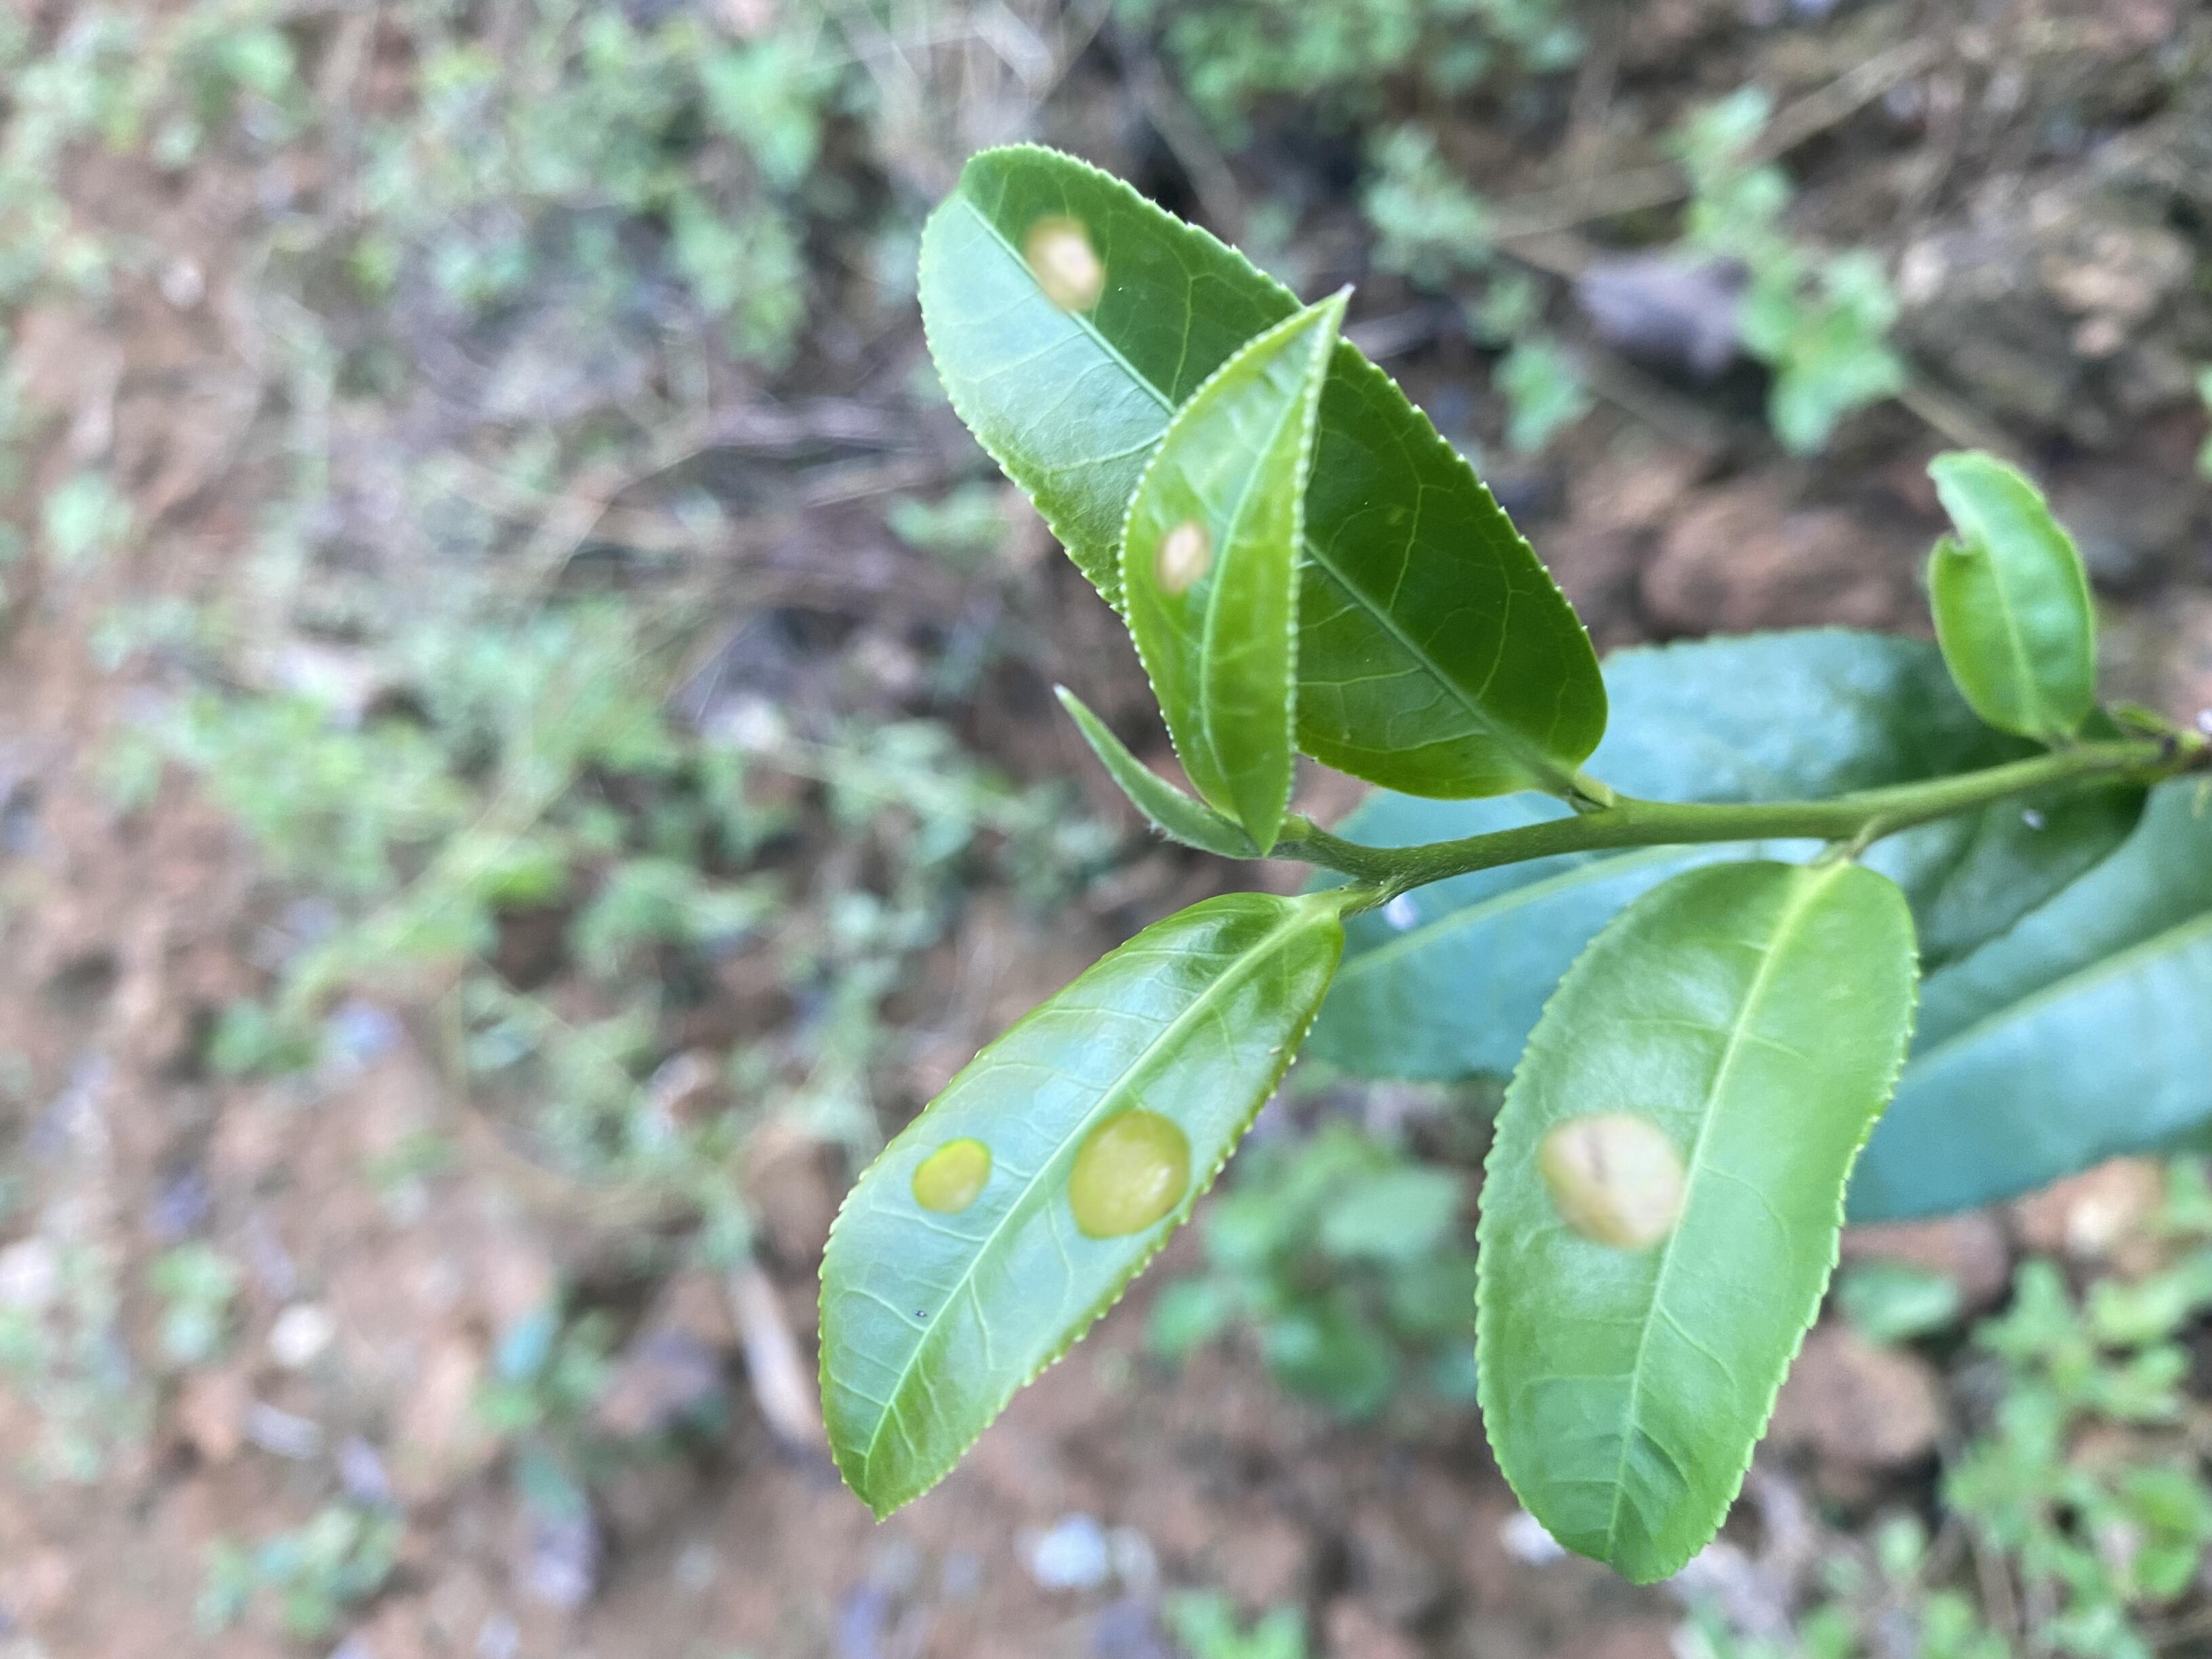chabing_high: (817, 890, 1348, 1527)
chabing_low: (916, 141, 1609, 800), (1474, 856, 1921, 1589), (1116, 286, 1357, 859)
